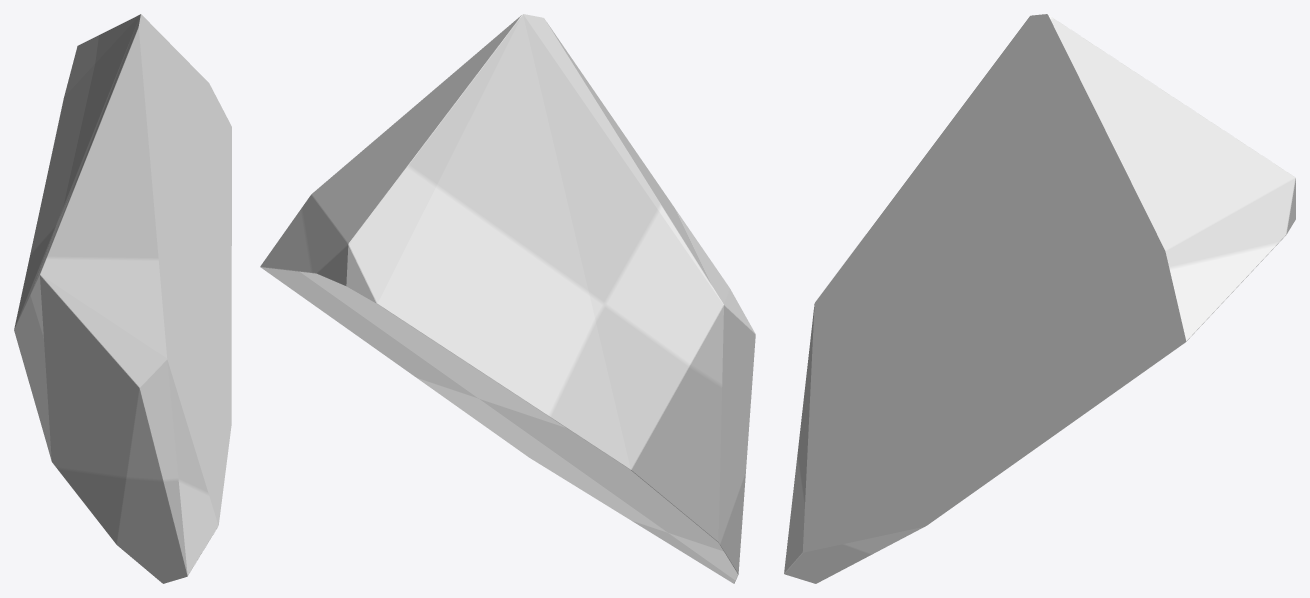
File: Project06.glb
3 renders of one model, left to right at view 1: azimuth 30°, elevation 25°; view 2: azimuth 150°, elevation 25°; view 3: azimuth 270°, elevation 25°, orthographic. The views are drawn at different scales.
Parts seen in each view (by area): view 1: project02.002; view 2: project02.002; view 3: project02.002.
Boxes of the visible parts, box(x1,y1,x2,y2) form: project02.002: box(14, 14, 231, 583); project02.002: box(260, 14, 755, 583); project02.002: box(784, 14, 1295, 583).
Size of the model in its own units: 1.15 by 1.96 by 1.48.
2 materials, 1 textured.
